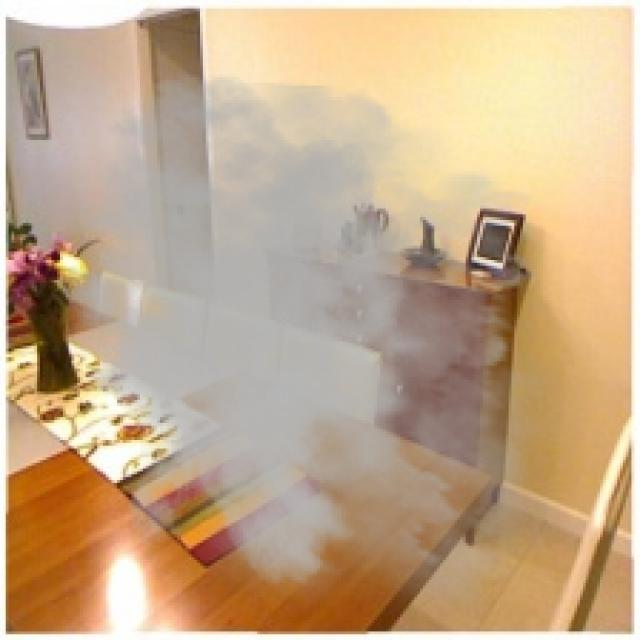smoke: (37, 72, 597, 637)
